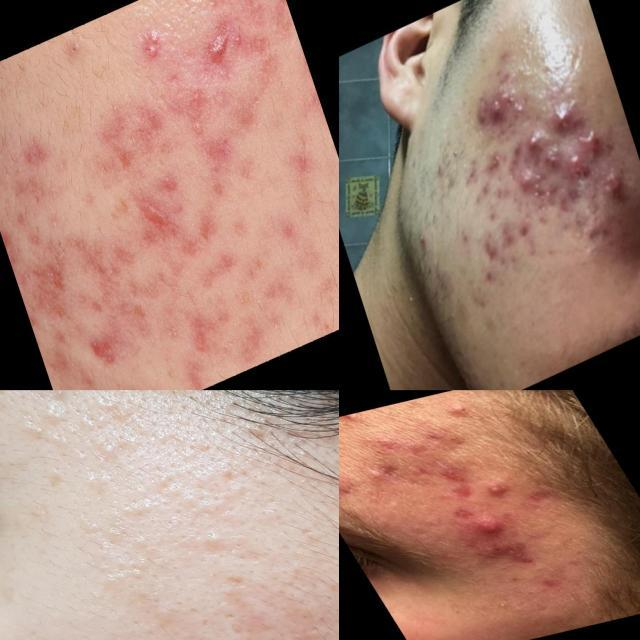Pimples: (22, 240, 88, 329), (124, 180, 180, 254), (422, 459, 496, 509), (72, 224, 122, 290), (84, 321, 128, 378), (56, 31, 102, 78), (560, 140, 598, 190), (463, 510, 515, 544), (600, 158, 634, 202), (187, 320, 221, 362), (504, 166, 542, 202), (471, 235, 503, 273), (363, 430, 409, 456), (484, 94, 511, 134), (520, 120, 550, 154), (552, 95, 582, 126), (585, 122, 612, 155), (446, 400, 482, 420), (479, 479, 513, 499), (546, 142, 566, 171), (339, 471, 356, 504), (402, 520, 430, 536), (502, 572, 528, 586), (519, 586, 537, 600)
